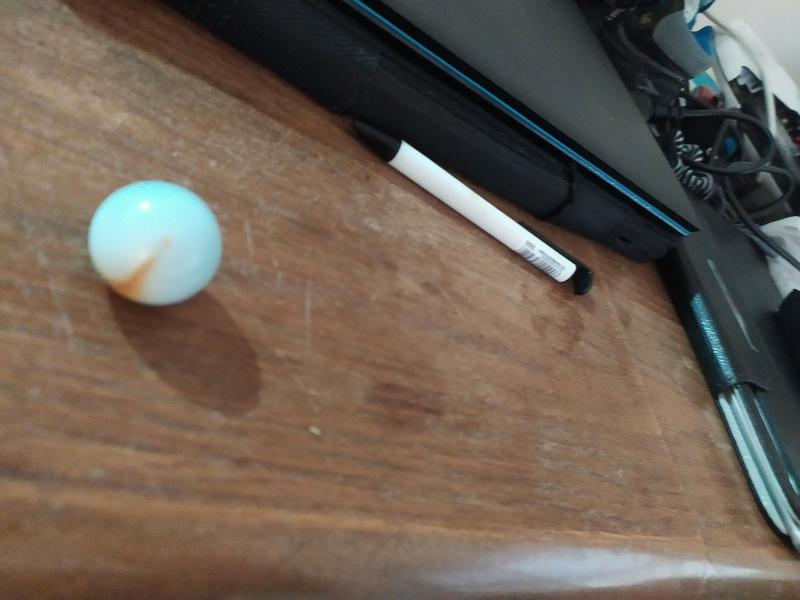Warning: (83, 176, 228, 310)
